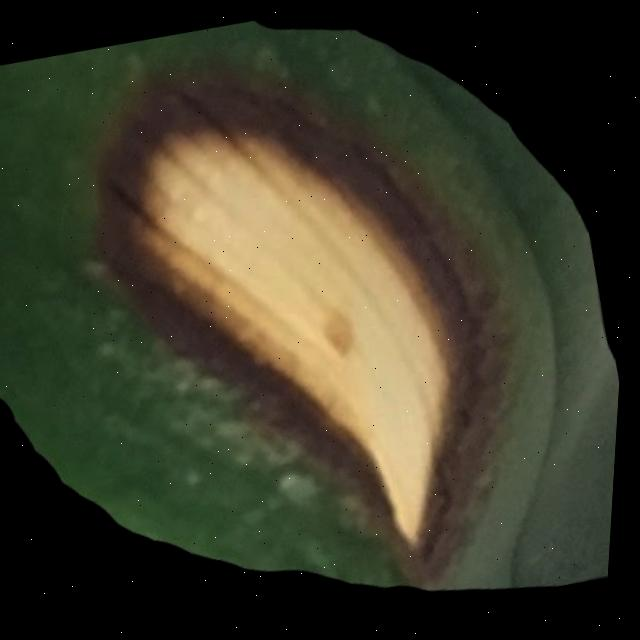mite: (0, 12, 627, 640), (0, 373, 72, 510), (105, 165, 162, 235), (171, 442, 231, 504), (280, 459, 330, 504), (180, 452, 222, 496), (0, 381, 26, 438), (364, 82, 391, 117), (186, 458, 215, 488)
sunburn: (60, 16, 567, 628)
